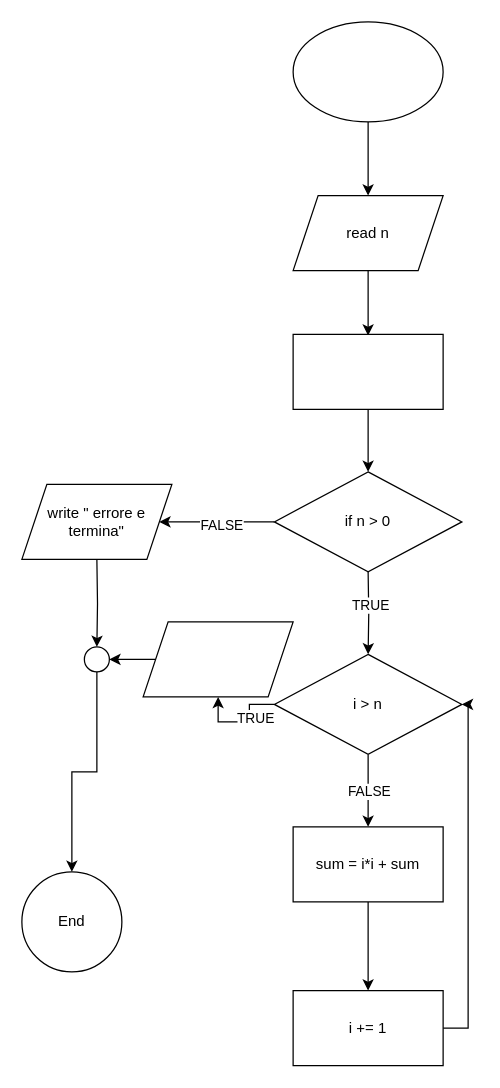
The diagram is 500 pixels wide and 1088 high, and some of its shapes have lost their labels. Each missing label, with the box of its shape:
i = 1: (292, 333, 443, 409)
Start: (292, 21, 443, 122)
write " il risultato": (142, 621, 293, 697)
